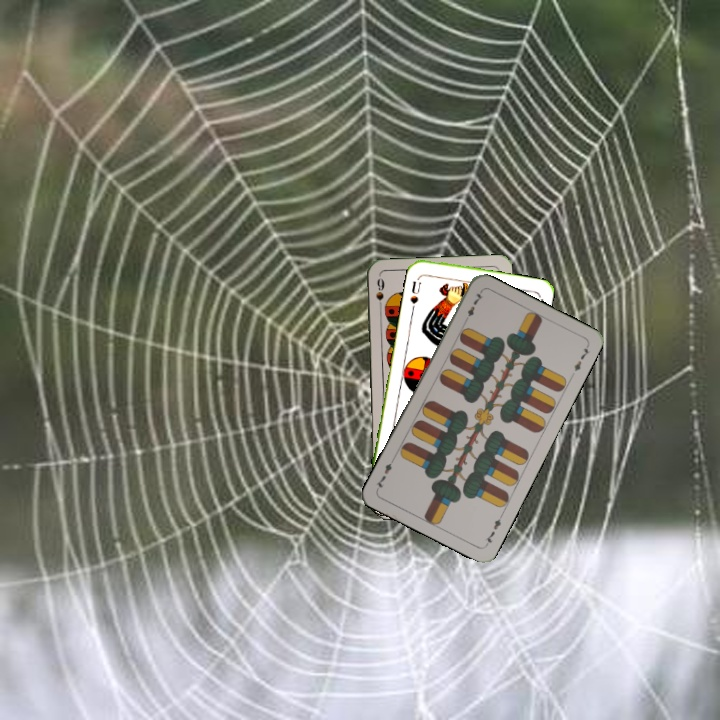E7: (460, 288, 486, 325), (481, 510, 506, 548)
S9: (372, 274, 387, 314)
SU: (406, 277, 424, 306)
